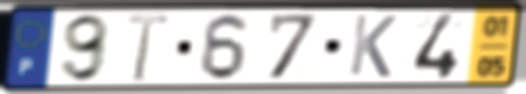4: (409, 9, 462, 81)
6: (199, 11, 252, 84)
7: (265, 11, 322, 83)
9: (55, 13, 113, 85)
K: (346, 12, 400, 80)
T: (124, 12, 172, 85)
